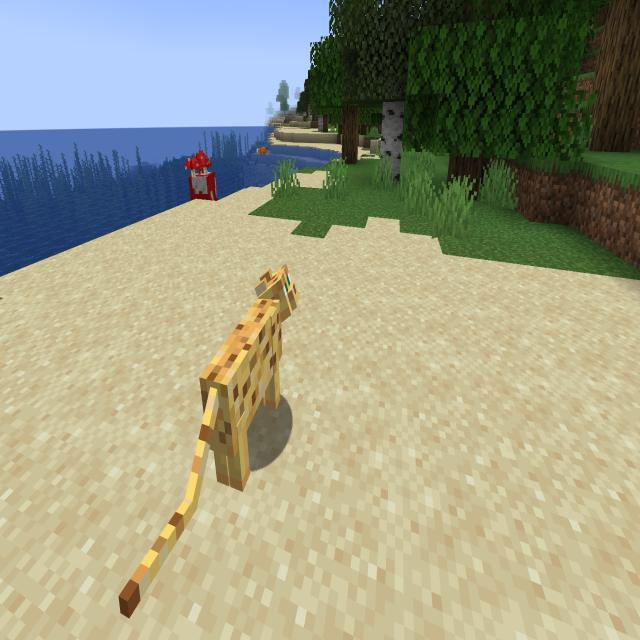Fox: (253, 143, 270, 160)
Mooshroom: (179, 145, 220, 211)
Ocelot: (117, 263, 299, 620)
